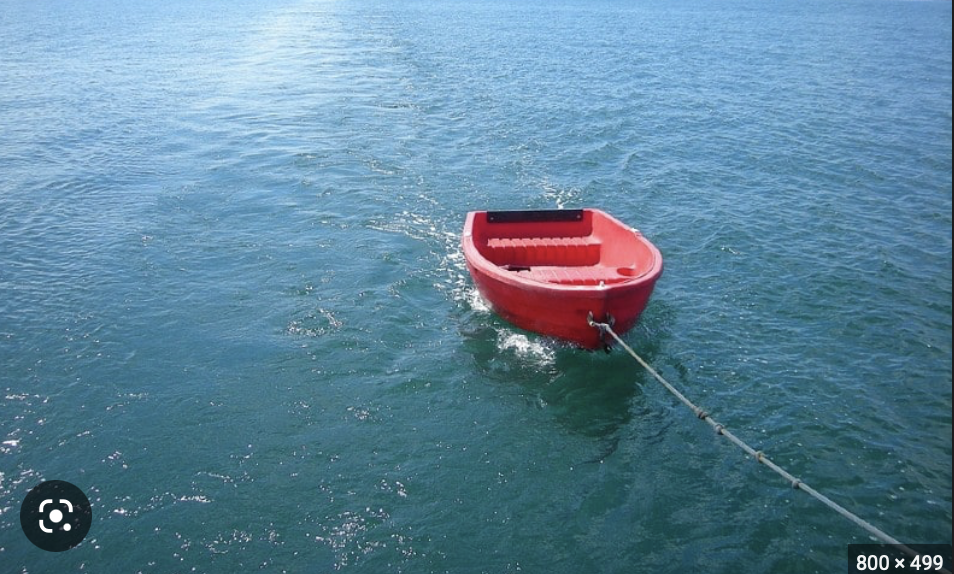ship: (449, 183, 675, 343)
